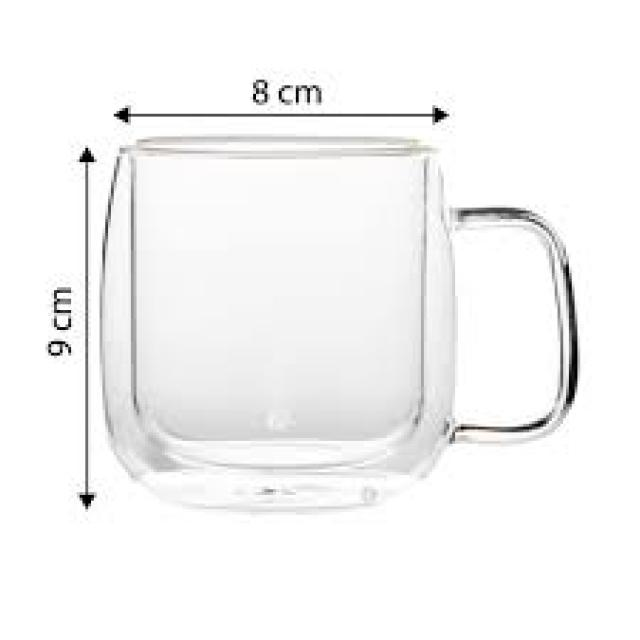Dry: (94, 129, 590, 519)
